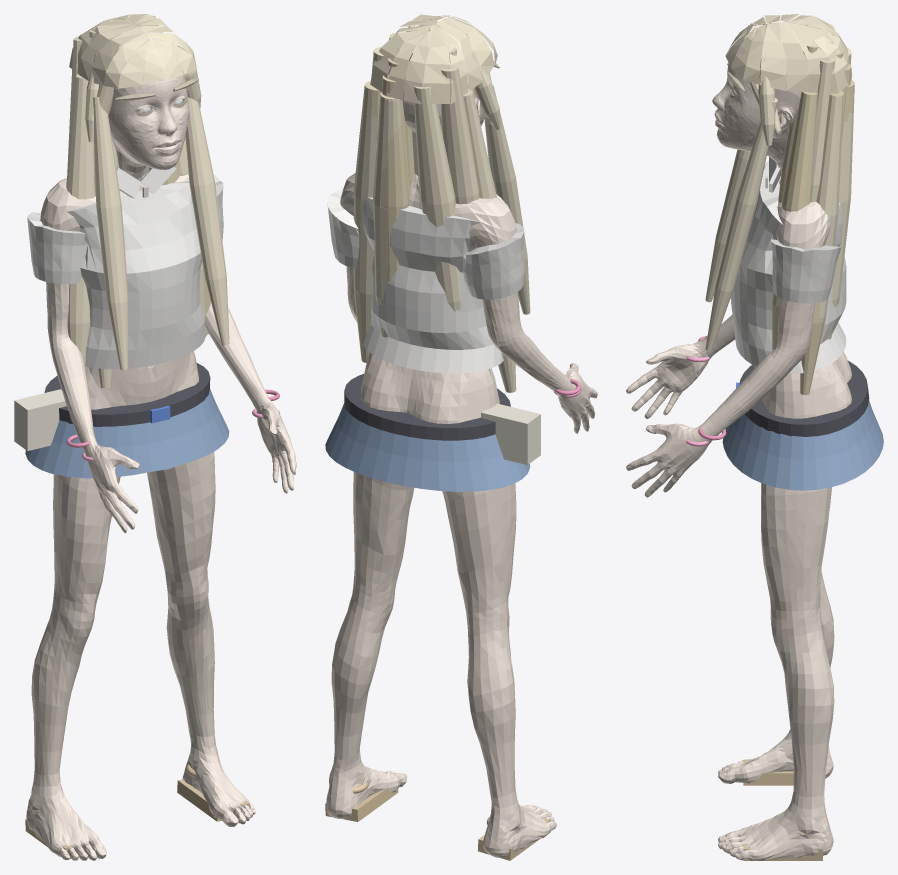
The model's file is test-reference.glb.
3 renders of one model, left to right at view 1: azimuth 30°, elevation 25°; view 2: azimuth 150°, elevation 25°; view 3: azimuth 270°, elevation 25°, orthographic.
Visible parts, largest first — view 1: body, top, skirt, scalp, lock_-1, lock_1, strand_long_11_26, sleeve_R, belt_1.75, bag, sole_L, strand_long_0_8; view 2: body, top, skirt, scalp, strand_long_10_25, strand_long_14_29, belt_1.75, sleeve_R, strand_long_1_16, strand_long_8_23, lock_-1, bag (+7 smaller); view 3: body, skirt, top, scalp, lock_1, sleeve_L, belt_1.75, strand_long_9_24, strand_long_14_29, strand_long_8_23, lock_-1, strand_long_2_17 (+4 smaller).
Boxes of the visible parts, x1,y1,x2,y2 form: body: [26, 23, 296, 860]; top: [67, 181, 205, 369]; skirt: [25, 389, 229, 478]; scalp: [69, 14, 197, 88]; lock_-1: [93, 96, 128, 370]; lock_1: [185, 97, 229, 345]; strand_long_11_26: [66, 74, 94, 376]; sleeve_R: [27, 212, 87, 283]; belt_1.75: [44, 363, 210, 426]; bag: [14, 389, 66, 450]; sole_L: [177, 779, 249, 821]; strand_long_0_8: [85, 53, 98, 142]; body: [326, 21, 597, 857]; top: [349, 190, 504, 373]; skirt: [325, 403, 530, 491]; scalp: [370, 14, 497, 104]; strand_long_10_25: [413, 82, 461, 311]; strand_long_14_29: [353, 81, 376, 357]; belt_1.75: [344, 374, 510, 440]; sleeve_R: [463, 223, 524, 299]; strand_long_1_16: [441, 63, 479, 204]; strand_long_8_23: [372, 99, 401, 337]; lock_-1: [484, 83, 530, 314]; bag: [481, 403, 540, 464]; body: [626, 21, 851, 860]; skirt: [722, 400, 883, 490]; top: [730, 161, 846, 373]; scalp: [725, 14, 851, 93]; lock_1: [705, 98, 777, 351]; sleeve_L: [771, 239, 841, 303]; belt_1.75: [739, 360, 869, 436]; strand_long_9_24: [773, 92, 817, 349]; strand_long_14_29: [816, 93, 843, 342]; strand_long_8_23: [828, 88, 854, 339]; lock_-1: [705, 149, 750, 302]; strand_long_2_17: [810, 58, 834, 202].
Bounding box in the file's own units: 0.9145 × 3.31 × 0.973.
